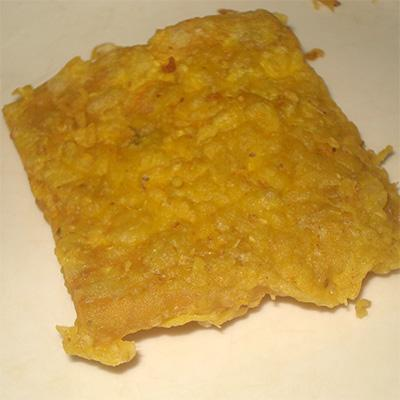kacang_legume: (69, 75, 316, 296)
